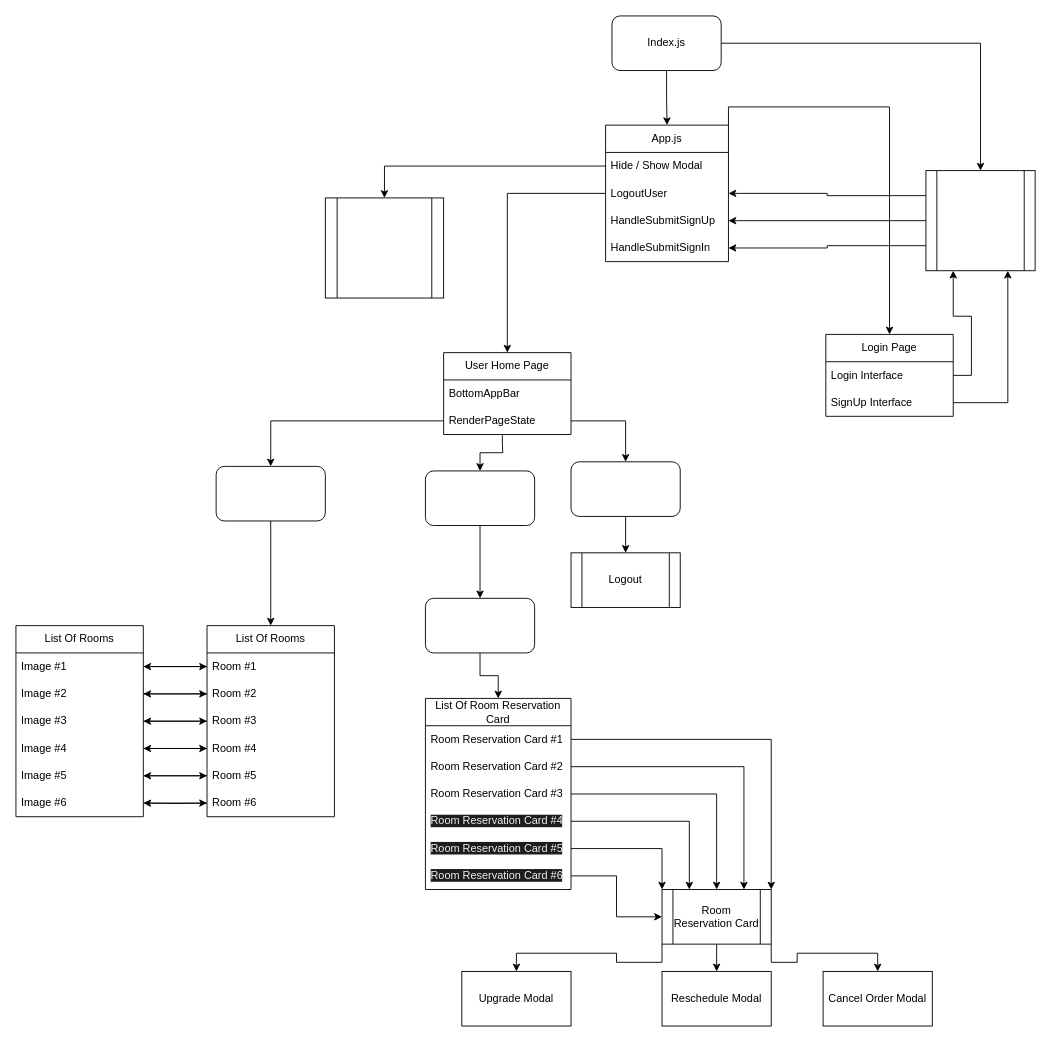
The diagram is 1051 pixels wide and 1042 high, and some of its shapes have lost their labels. The centre of each missing label's shape, as x and y in pixels:
"Booking Modal" belongs at pixel 384 247.
"Firebase Configuration" belongs at pixel 980 220.
"Reservation Panel" belongs at pixel 480 625.
"ReservationsPage" belongs at pixel 480 498.
"RoomBookingPage" belongs at pixel 270 493.
"SettingsPage" belongs at pixel 625 488.
